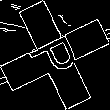P_NE: (24, 27, 86, 83)
